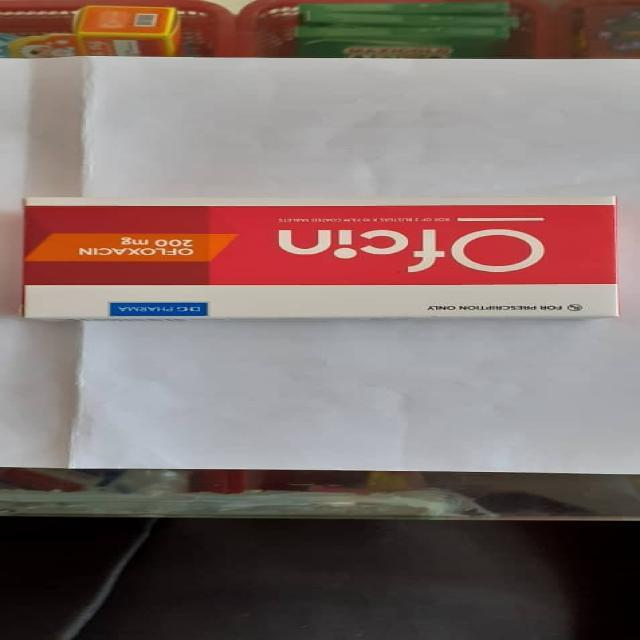drug-name: (275, 227, 548, 275)
